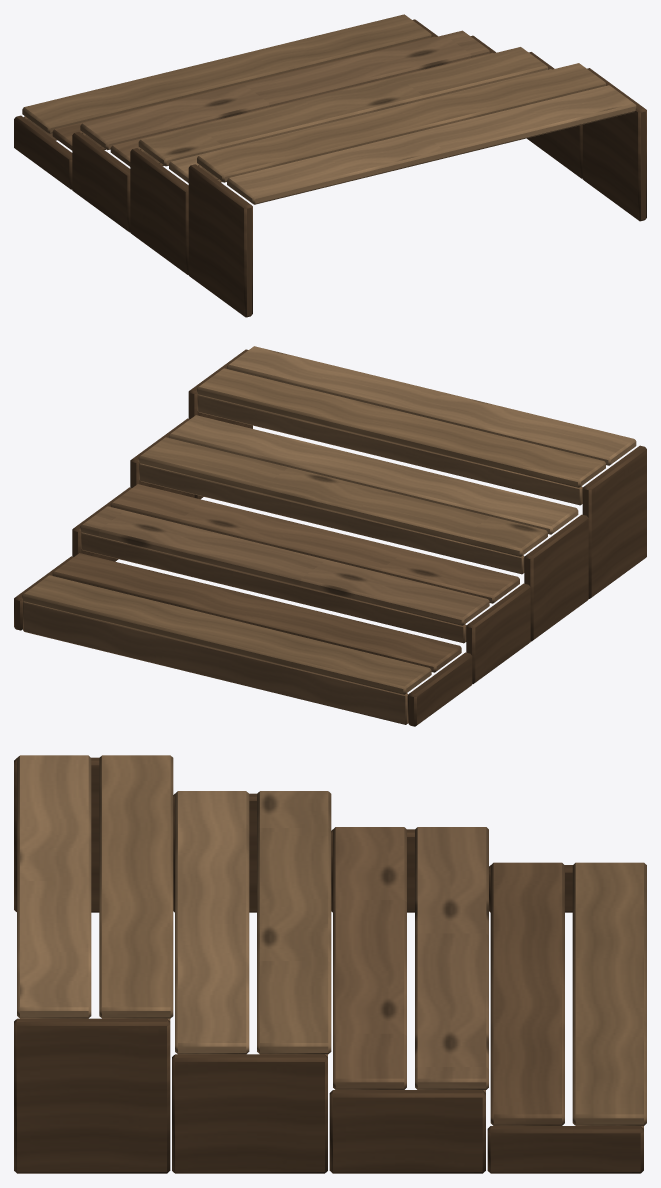
Rendered from deck-steps.glb.
The picture shows the model from 3 angles, top to bottom: view 1: azimuth 30°, elevation 25°; view 2: azimuth 150°, elevation 25°; view 3: azimuth 270°, elevation 25°; orthographic projection. The views are drawn at different scales.
Parts seen in each view (by area): view 1: deck-steps; view 2: deck-steps; view 3: deck-steps.
Boxes of the visible parts, x1,y1,x2,y2 form: deck-steps: (14, 14, 646, 317); deck-steps: (14, 346, 646, 726); deck-steps: (14, 755, 646, 1173).
Size of the model in its own units: 4 by 1.12 by 4.01.
1 material, 1 textured.
